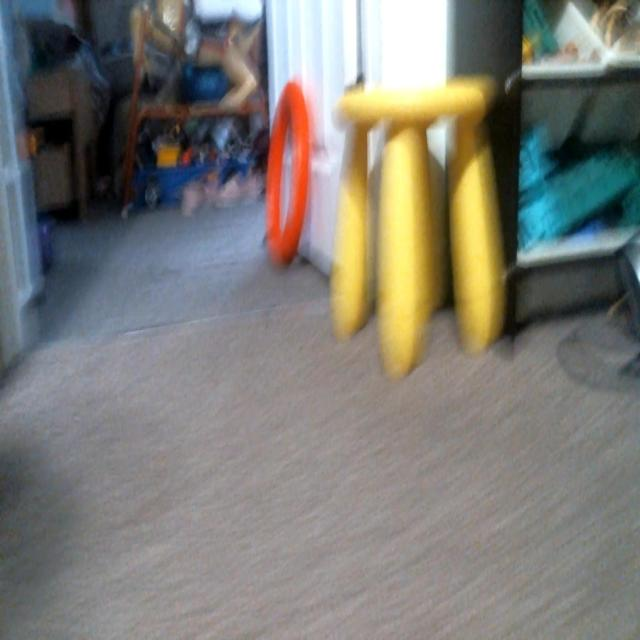note: (265, 80, 312, 272)
